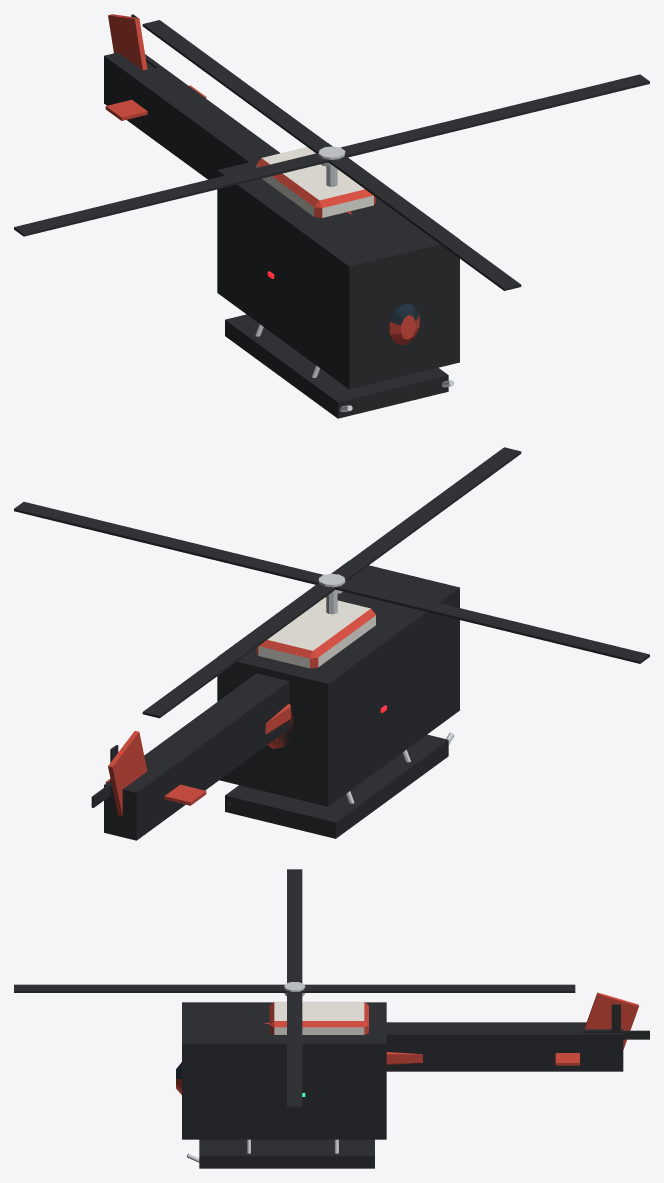
Rendered from VEH_Heli.fbx.
The picture shows the model from 3 angles, top to bottom: view 1: azimuth 30°, elevation 25°; view 2: azimuth 150°, elevation 25°; view 3: azimuth 270°, elevation 25°; orthographic projection. The views are drawn at different scales.
Parts seen in each view (by area): view 1: VEH_Heli__COL_Body, VEH_Heli__ROTOR_MAIN, VEH_Heli__COL_Tail, VEH_Heli__BODY, VEH_Heli__COL_Skids; view 2: VEH_Heli__COL_Body, VEH_Heli__ROTOR_MAIN, VEH_Heli__COL_Tail, VEH_Heli__BODY, VEH_Heli__COL_Skids; view 3: VEH_Heli__COL_Body, VEH_Heli__COL_Tail, VEH_Heli__ROTOR_MAIN, VEH_Heli__BODY, VEH_Heli__COL_Skids, VEH_Heli__ROTOR_TAIL.
Boxes of the visible parts, x1,y1,x2,y2 form: VEH_Heli__COL_Body: [217, 143, 459, 389]; VEH_Heli__ROTOR_MAIN: [14, 20, 649, 290]; VEH_Heli__COL_Tail: [104, 52, 280, 179]; VEH_Heli__BODY: [105, 14, 454, 412]; VEH_Heli__COL_Skids: [225, 314, 448, 418]; VEH_Heli__COL_Body: [217, 561, 459, 806]; VEH_Heli__ROTOR_MAIN: [14, 447, 649, 718]; VEH_Heli__COL_Tail: [104, 673, 289, 840]; VEH_Heli__BODY: [105, 594, 454, 816]; VEH_Heli__COL_Skids: [225, 734, 448, 838]; VEH_Heli__COL_Body: [182, 1002, 386, 1139]; VEH_Heli__COL_Tail: [386, 1022, 623, 1071]; VEH_Heli__ROTOR_MAIN: [14, 869, 575, 1108]; VEH_Heli__BODY: [176, 992, 638, 1162]; VEH_Heli__COL_Skids: [199, 1139, 374, 1168]; VEH_Heli__ROTOR_TAIL: [582, 1004, 649, 1039].
Bounding box in the file's own units: 9.6 × 3.05 × 10.88.
